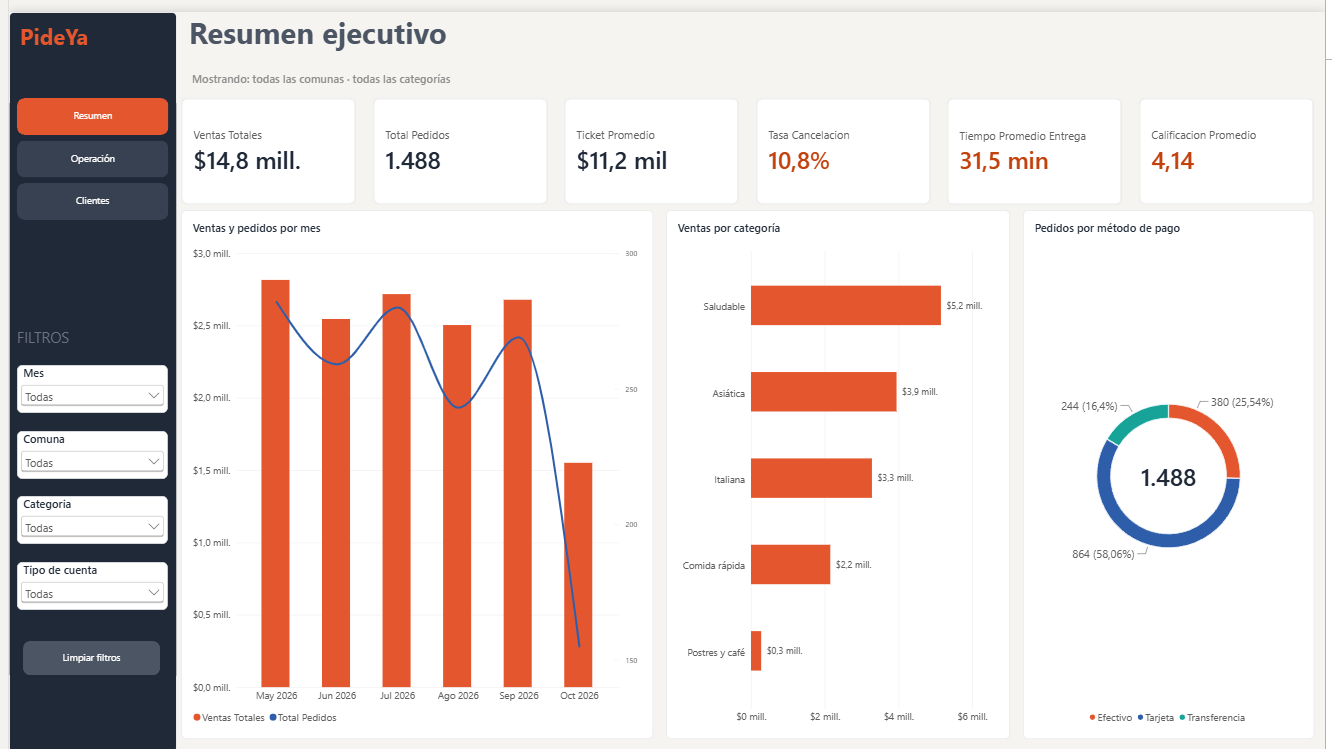

The dashboard page shown, as its layout file describes it:
{"tool":"powerbi","page":{"name":"Resumen","canvas":[1920,1080],"ordinal":0},"visuals":[{"type":"shape","box":[0,0,245.1,1079.6],"z":0},{"type":"cardVisual","fields":{"Data":["_Medidas.Ventas Totales"]},"box":[250.9,125.5,255,155],"z":1000},{"type":"cardVisual","fields":{"Data":["_Medidas.KPI Pedidos"]},"box":[530.5,125.5,255,155],"z":2000},{"type":"cardVisual","fields":{"Data":["_Medidas.Ticket Promedio"]},"box":[810,125.5,255,155],"z":3000},{"type":"cardVisual","fields":{"Data":["_Medidas.Tasa Cancelacion"]},"box":[1089.6,125.5,255,155],"z":4000},{"type":"cardVisual","fields":{"Data":["_Medidas.Tiempo Promedio Entrega"]},"box":[1369.1,125.5,255,156],"z":5000},{"type":"cardVisual","fields":{"Data":["_Medidas.Calificacion Promedio"]},"box":[1648.6,125.5,255,155],"z":6000},{"type":"lineClusteredColumnComboChart","title":"Ventas y pedidos por mes","fields":{"Category":["Calendario.Mes Año"],"Y":["_Medidas.Ventas Totales"],"Y2":["_Medidas.Total Pedidos"]},"box":[250.9,288.9,688.6,771.8],"z":7000},{"type":"clusteredBarChart","title":"Ventas por categoría","fields":{"Category":["Restaurantes.categoria"],"Y":["_Medidas.Ventas Totales"]},"box":[958.5,288.9,501.9,771.8],"z":8000},{"type":"donutChart","title":"Pedidos por método de pago","fields":{"Series":["Pedidos.metodo_pago"],"Y":["_Medidas.Total Pedidos"]},"box":[1479.4,288.9,424.6,771.8],"z":9000},{"type":"slicer","fields":{"Values":["Calendario.Mes Año"]},"box":[11.7,515,220,70],"z":10000},{"type":"slicer","fields":{"Values":["Usuarios.comuna"]},"box":[11.7,610.8,220,70],"z":11000},{"type":"slicer","fields":{"Values":["Restaurantes.categoria"]},"box":[11.7,706.6,220,70],"z":12000},{"type":"slicer","fields":{"Values":["Usuarios.tipo_cuenta"]},"box":[11.7,802.4,220,70],"z":13000},{"type":"actionButton","box":[20.4,917.7,200,50],"z":14000},{"type":"textbox","box":[250.9,0,1653,62.7],"z":15000},{"type":"cardVisual","fields":{"Data":["_Medidas.Titulo Filtros"]},"box":[250.9,80.2,1653,33.6],"z":16000},{"type":"textbox","box":[16,13.1,213,49.6],"z":17000},{"type":"pageNavigator","box":[11.7,125.5,221.8,179.5],"z":18000},{"type":"textbox","box":[11.7,459.6,220.3,55.4],"z":19000}]}

Visuals, with their boxes on the page's 1920x1080 design canvas (x1, y1, x2, y2). These are canvas units, not pixel positions in the 1332x749 screenshot, which may show the page scaled, cropped or inside an application window:
shape: box=[0, 0, 245, 1080]
cardVisual - _Medidas.Ventas Totales: box=[251, 126, 506, 280]
cardVisual - _Medidas.KPI Pedidos: box=[530, 126, 786, 280]
cardVisual - _Medidas.Ticket Promedio: box=[810, 126, 1065, 280]
cardVisual - _Medidas.Tasa Cancelacion: box=[1090, 126, 1345, 280]
cardVisual - _Medidas.Tiempo Promedio Entrega: box=[1369, 126, 1624, 282]
cardVisual - _Medidas.Calificacion Promedio: box=[1649, 126, 1904, 280]
"Ventas y pedidos por mes" lineClusteredColumnComboChart: box=[251, 289, 940, 1061]
"Ventas por categoría" clusteredBarChart: box=[958, 289, 1460, 1061]
"Pedidos por método de pago" donutChart: box=[1479, 289, 1904, 1061]
slicer - Calendario.Mes Año: box=[12, 515, 232, 585]
slicer - Usuarios.comuna: box=[12, 611, 232, 681]
slicer - Restaurantes.categoria: box=[12, 707, 232, 777]
slicer - Usuarios.tipo_cuenta: box=[12, 802, 232, 872]
actionButton: box=[20, 918, 220, 968]
textbox: box=[251, 0, 1904, 63]
cardVisual - _Medidas.Titulo Filtros: box=[251, 80, 1904, 114]
textbox: box=[16, 13, 229, 63]
pageNavigator: box=[12, 126, 234, 305]
textbox: box=[12, 460, 232, 515]
